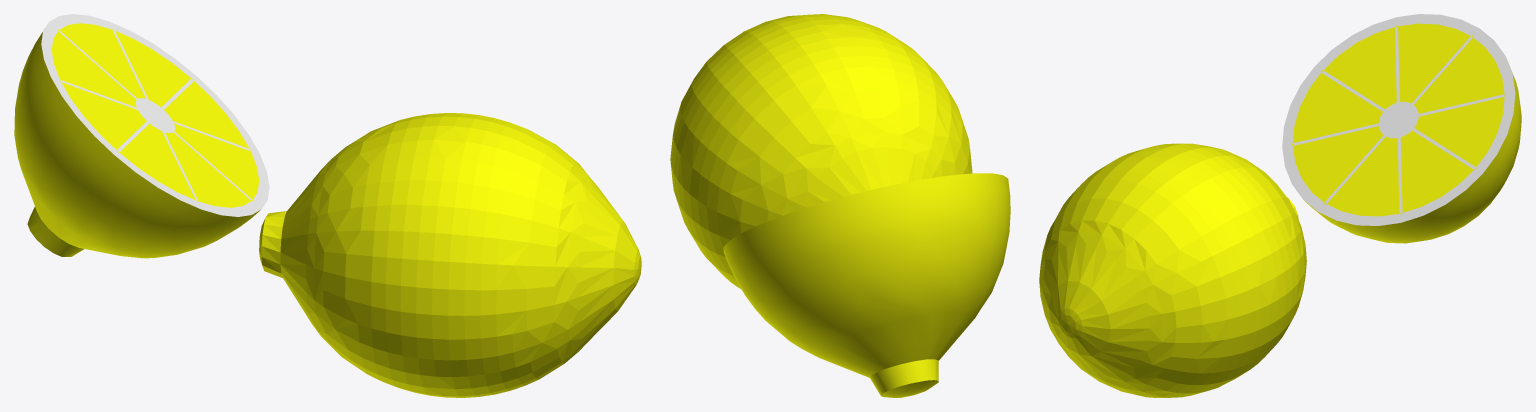
The model's file is Lemon.gltf.
3 views of the same model, side by side, from view 1: azimuth 30°, elevation 25°; view 2: azimuth 150°, elevation 25°; view 3: azimuth 270°, elevation 25° (orthographic). The views are drawn at different scales.
Parts seen in each view (by area): view 1: node-0; view 2: node-0; view 3: node-0.
Boxes of the visible parts, left/top/right/bottom form: node-0: left=14, top=14, right=641, bottom=397; node-0: left=670, top=14, right=1010, bottom=397; node-0: left=1039, top=14, right=1521, bottom=397.
Bounding box in the file's own units: 436164 × 284586 × 481781.
